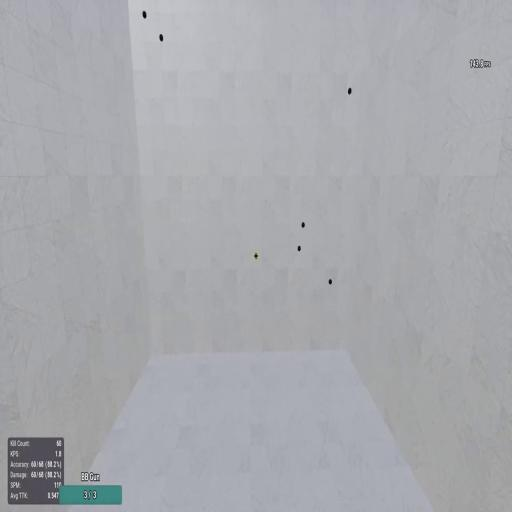Crosshair: (254, 252, 258, 260)
Target: (300, 221, 306, 229), (142, 11, 148, 19), (328, 278, 333, 286), (159, 34, 164, 42), (348, 87, 352, 96), (298, 246, 301, 251)
